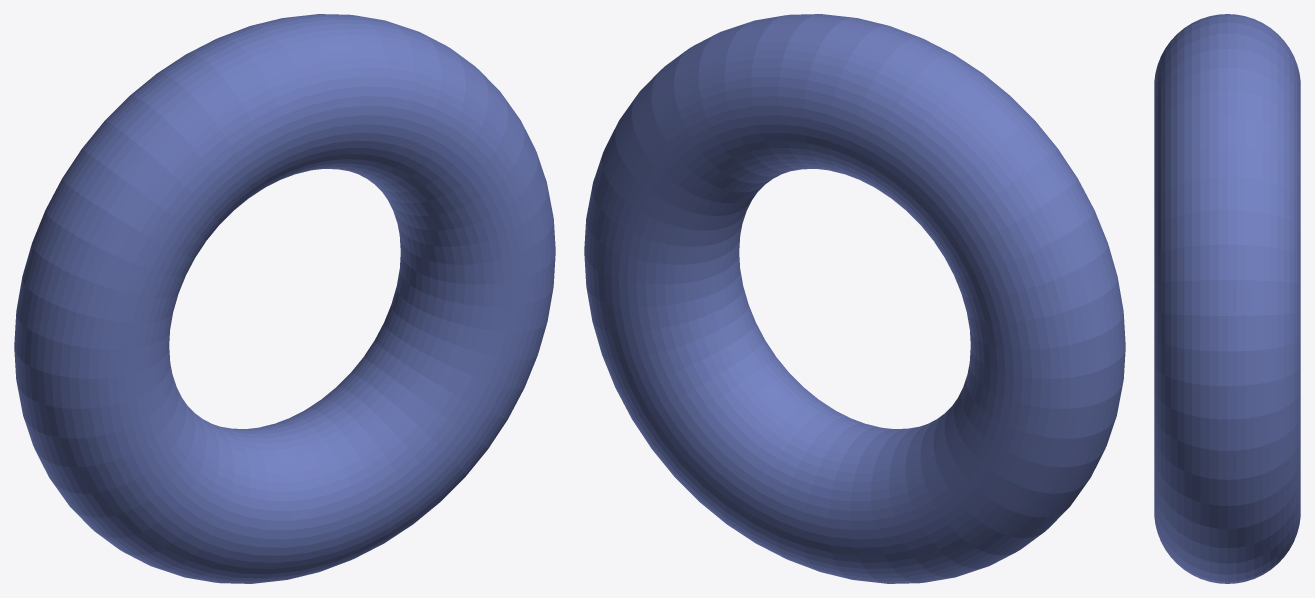
3 views of the same model, side by side, from view 1: azimuth 30°, elevation 25°; view 2: azimuth 150°, elevation 25°; view 3: azimuth 270°, elevation 25° (orthographic). The views are drawn at different scales.
Parts seen in each view (by area): view 1: world; view 2: world; view 3: world.
Boxes of the visible parts, x1,y1,x2,y2 form: world: [14, 14, 555, 583]; world: [584, 14, 1125, 583]; world: [1154, 14, 1300, 583].
Size of the model in its own units: 17.07 by 17.03 by 4.39.
